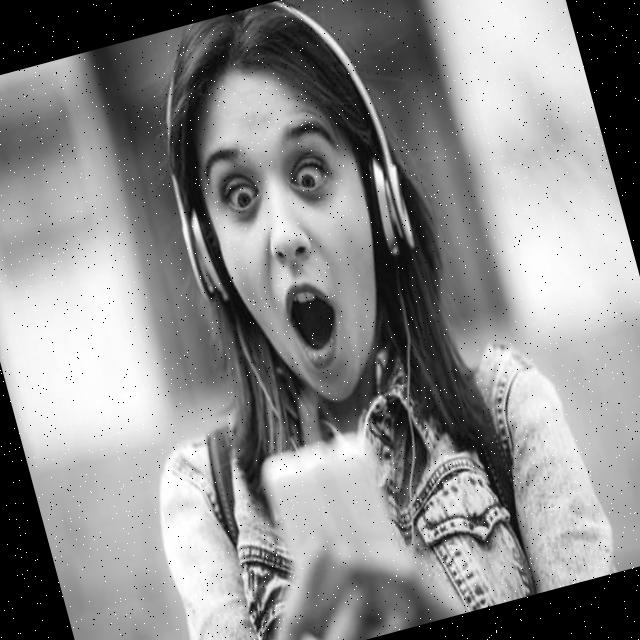Surprised: (168, 39, 412, 426)
